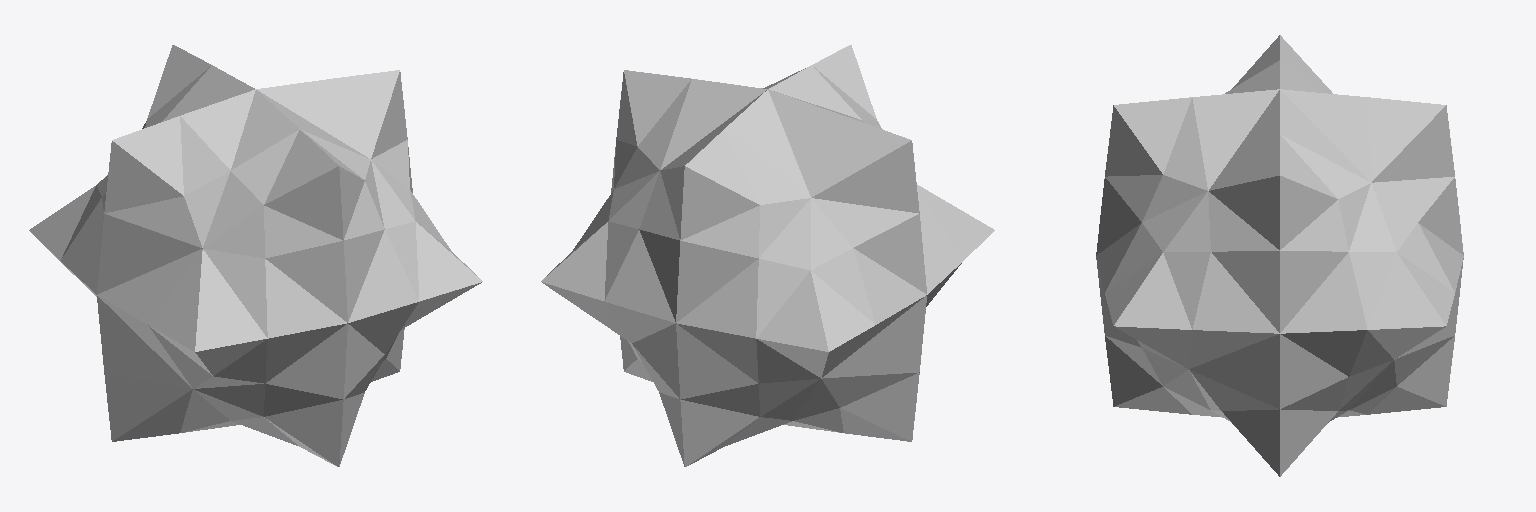
Rendered from SmallPlasmaTankLOD0.obj.
The picture shows the model from 3 angles: view 1: azimuth 30°, elevation 25°; view 2: azimuth 150°, elevation 25°; view 3: azimuth 270°, elevation 25°; orthographic projection.
Visible parts, largest first — view 1: Cube_Cube.001; view 2: Cube_Cube.001; view 3: Cube_Cube.001.
Part boxes in pixels (x1,y1,x2,y2): Cube_Cube.001: (29,45,482,466); Cube_Cube.001: (541,45,994,466); Cube_Cube.001: (1096,35,1463,476).
Bounding box in the file's own units: 0.9043 × 0.9043 × 0.9043.